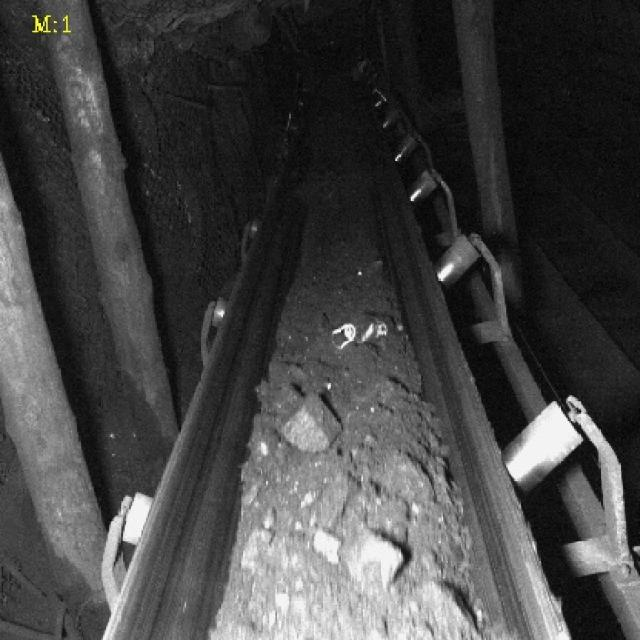Other_garbage: (334, 317, 401, 345)
large_sized_coal: (408, 578, 478, 636), (278, 397, 342, 452), (349, 528, 402, 584)
